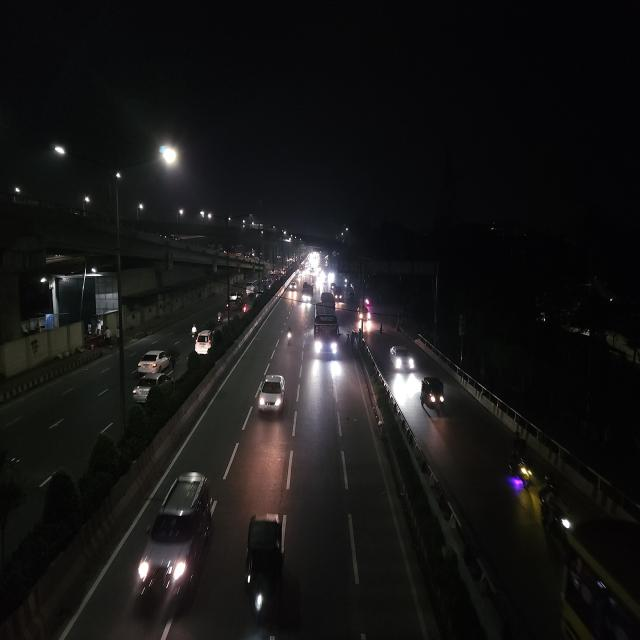bus: (312, 295, 341, 362)
car: (129, 466, 219, 620), (132, 344, 180, 380), (256, 370, 288, 420), (130, 370, 172, 403), (387, 342, 417, 377), (191, 327, 217, 358), (228, 290, 244, 304), (245, 283, 257, 296), (263, 275, 273, 288), (288, 282, 298, 290)
cng: (240, 508, 294, 635), (418, 373, 448, 415)
motorcycle: (506, 434, 535, 495), (284, 324, 294, 349), (377, 322, 385, 337)
truck: (300, 282, 314, 306)
